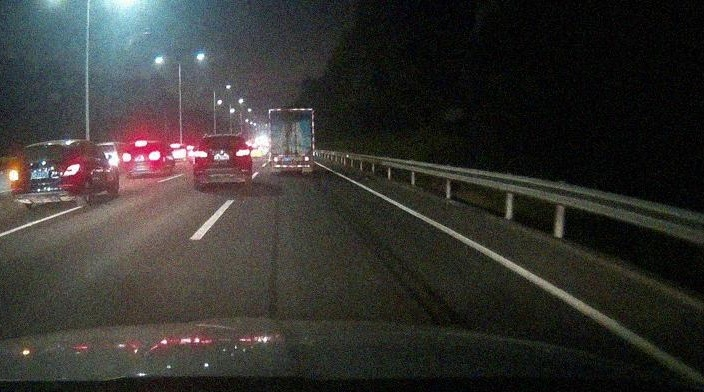L_light: (8, 169, 19, 183), (122, 153, 132, 162), (194, 151, 207, 157), (273, 157, 284, 161)
R_light: (63, 163, 80, 177), (235, 149, 250, 156), (149, 151, 160, 160), (298, 156, 309, 161)
T_light: (134, 140, 147, 147), (36, 144, 49, 148), (286, 110, 296, 112), (219, 136, 228, 138)
night-brake: (121, 139, 164, 177)
night-left: (8, 141, 86, 208)
night-no: (193, 135, 252, 187), (268, 109, 315, 174)
